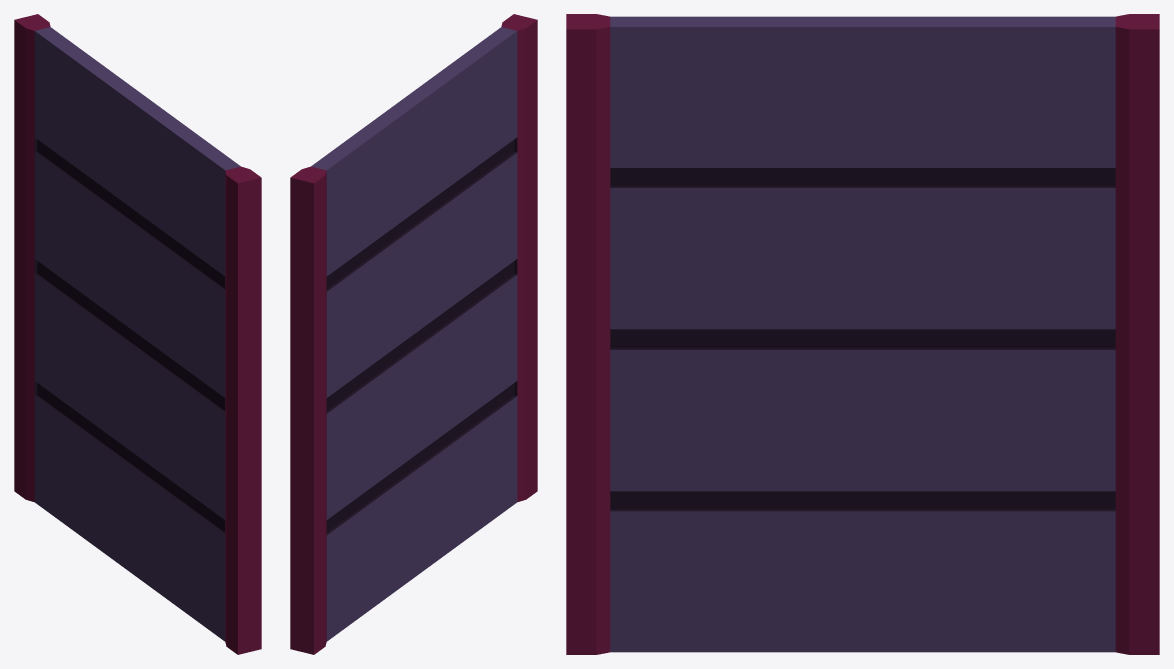
Rendered from Muro.fbx.
The picture shows the model from 3 angles, left to right: view 1: azimuth 30°, elevation 25°; view 2: azimuth 150°, elevation 25°; view 3: azimuth 270°, elevation 25°; orthographic projection. The views are drawn at different scales.
Visible parts, largest first — view 1: Muro; view 2: Muro; view 3: Muro.
Boxes of the visible parts, x1,y1,x2,y2 form: Muro: (14,14,261,654); Muro: (290,14,537,654); Muro: (566,14,1159,654).
Size of the model in its own units: 144 by 2729 by 2346.
